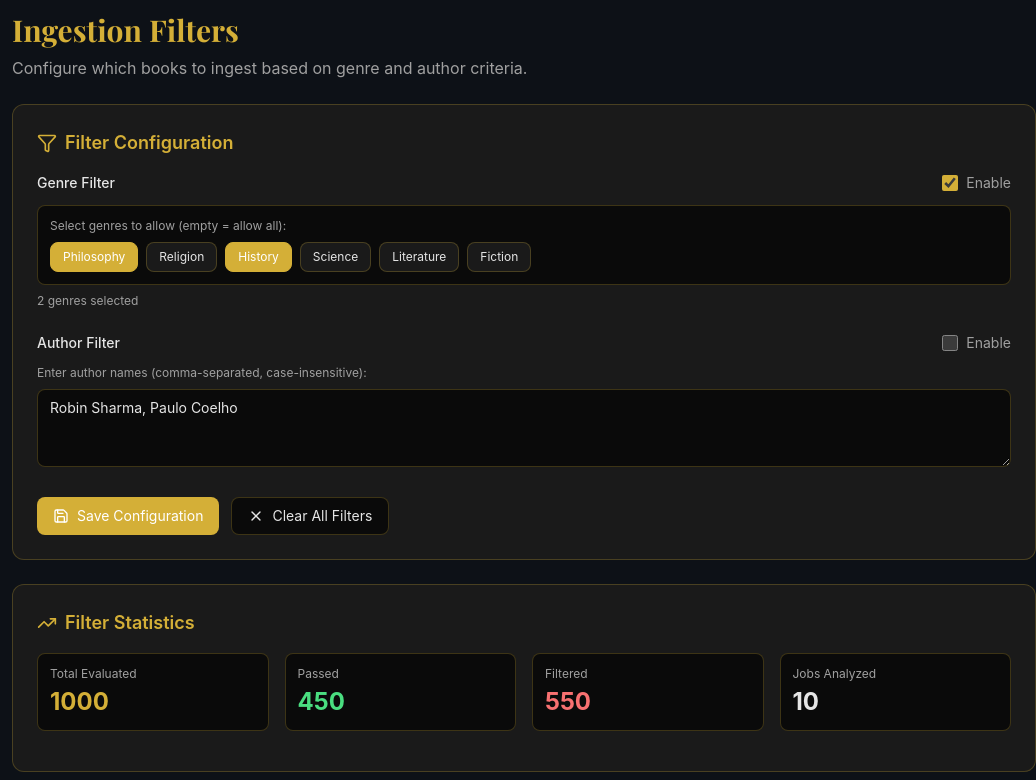
IngestionFiltersPanel - Unit Tests › Clear Button › should reset configuration when clear button is clicked
Click the button "Clear All Filters". click: x=310, y=516
box: [231,497,389,535]
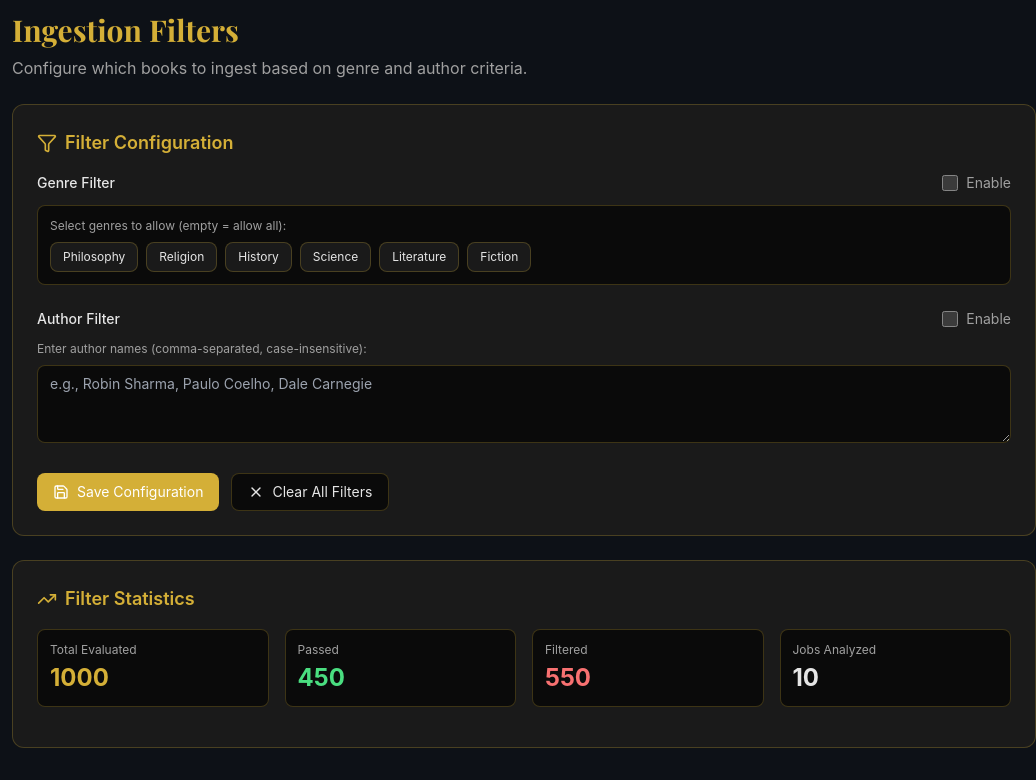
Result: the text box with placeholder "e.g., Robin Sharma, Paulo Coelho, Dale Carnegie" is empty at [37,365,1011,443]
